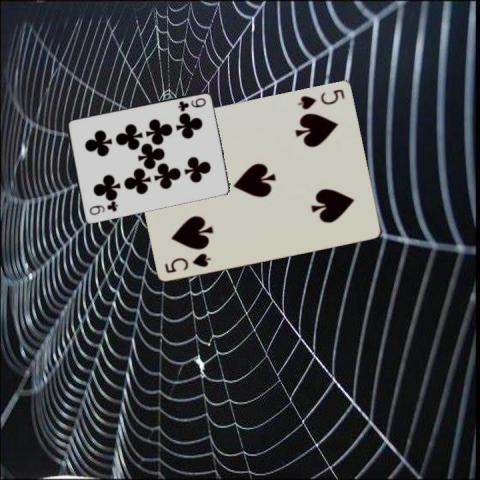5s: (294, 85, 346, 111), (162, 249, 213, 274)
9c: (175, 96, 207, 114), (86, 200, 119, 216)
